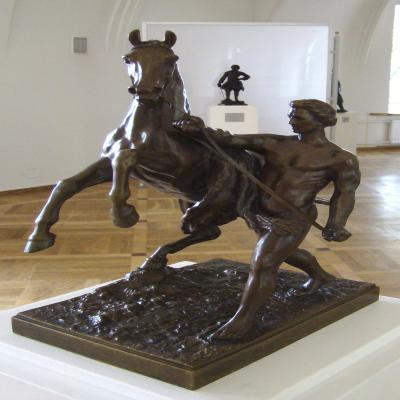sculpture: (11, 30, 381, 392)
